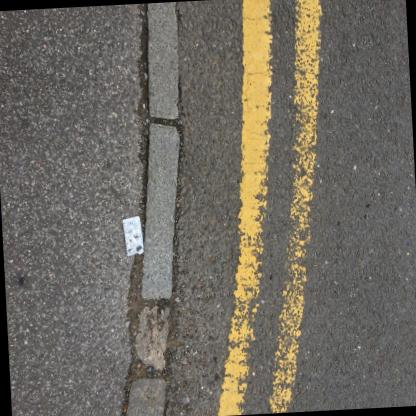Metal: (121, 215, 142, 255)
